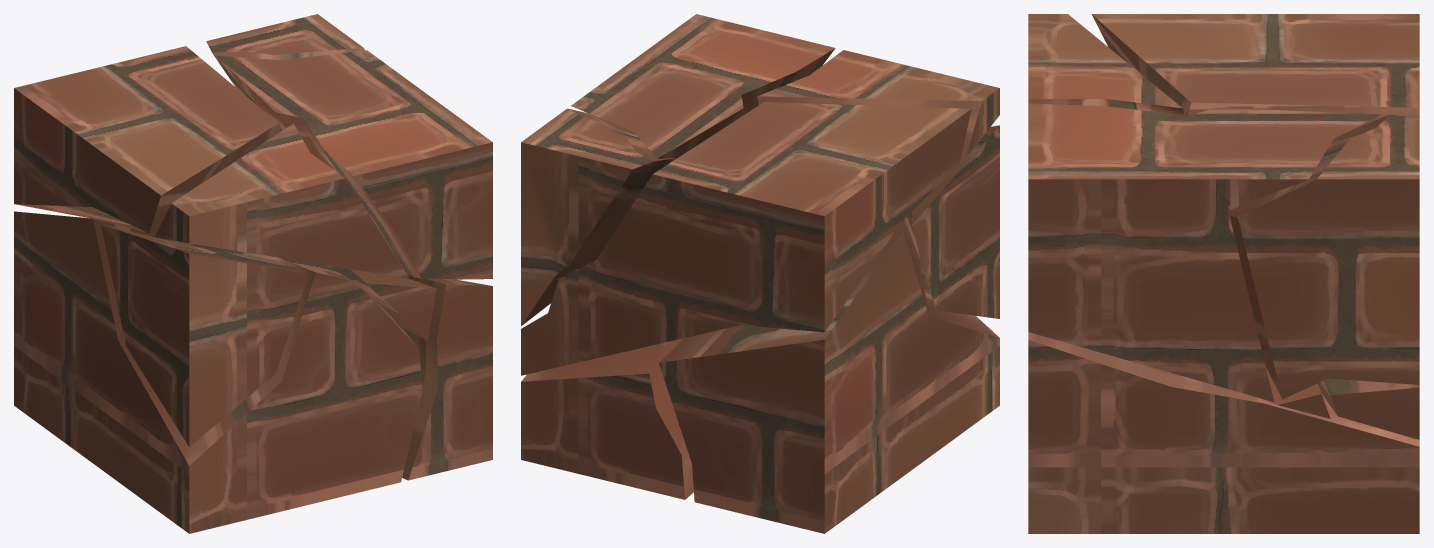
Rendered from block_gibs.fbx.
3 renders of one model, left to right at view 1: azimuth 30°, elevation 25°; view 2: azimuth 150°, elevation 25°; view 3: azimuth 270°, elevation 25°, orthographic. The views are drawn at different scales.
Visible parts, largest first — view 1: gib1, gib7, gib3, gib8, gib2, gib5, gib6, gib4; view 2: gib3, gib1, gib5, gib7, gib6, gib8, gib2; view 3: gib7, gib5, gib6, gib3, gib2.
Boxes of the visible parts, bbox=[...] form: gib1: bbox=[14, 211, 422, 533]; gib7: bbox=[216, 50, 492, 279]; gib3: bbox=[14, 46, 282, 234]; gib8: bbox=[101, 224, 308, 446]; gib2: bbox=[155, 123, 409, 278]; gib5: bbox=[402, 271, 492, 480]; gib6: bbox=[206, 14, 365, 129]; gib4: bbox=[326, 265, 436, 340]; gib3: bbox=[521, 102, 971, 375]; gib1: bbox=[659, 212, 999, 533]; gib5: bbox=[521, 338, 693, 499]; gib7: bbox=[571, 14, 835, 158]; gib6: bbox=[521, 108, 676, 326]; gib8: bbox=[911, 125, 999, 318]; gib2: bbox=[757, 50, 999, 160]; gib7: bbox=[1028, 103, 1380, 401]; gib5: bbox=[1028, 332, 1419, 533]; gib6: bbox=[1228, 114, 1419, 399]; gib3: bbox=[1091, 14, 1419, 439]; gib2: bbox=[1028, 14, 1330, 418].
Size of the model in its own units: 32 by 32 by 32.
Materials: 1 (1 with a texture image).
